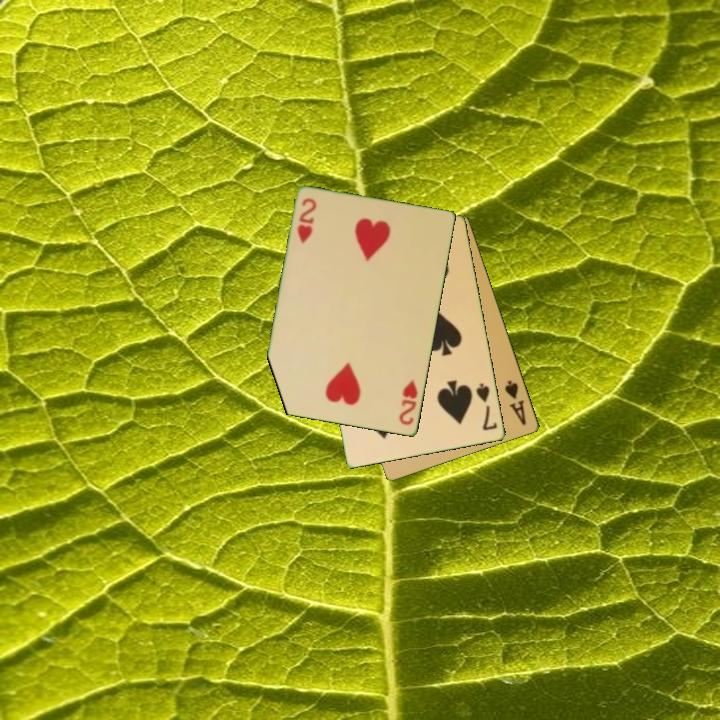2h: (294, 195, 320, 247), (396, 376, 421, 428)
7s: (473, 380, 500, 434)
As: (502, 377, 529, 428)
